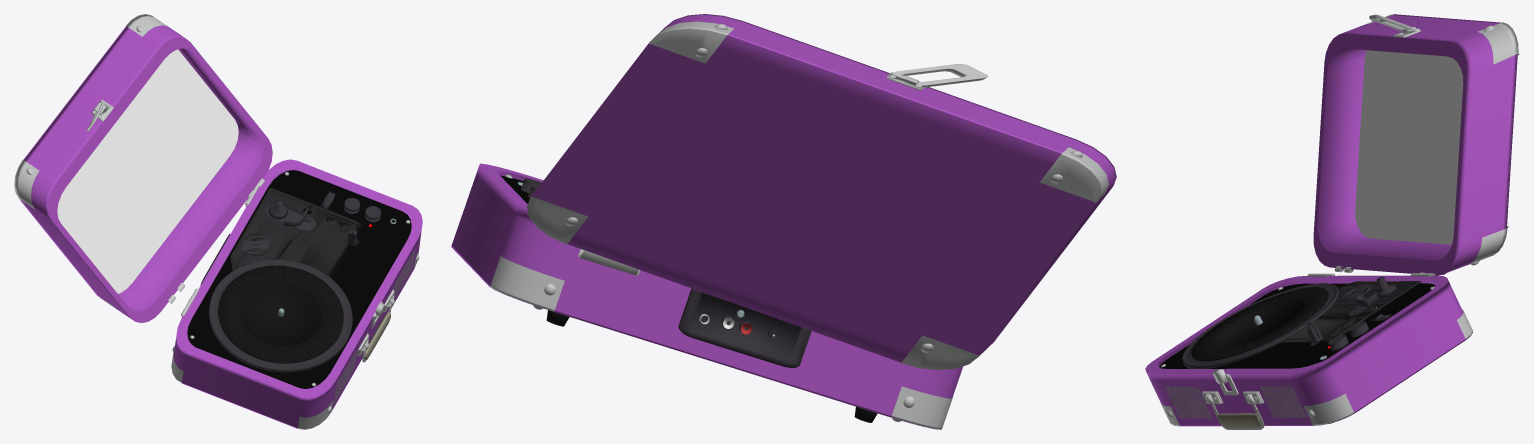
File: turntable3.glb
3 renders of one model, left to right at view 1: azimuth 30°, elevation 25°; view 2: azimuth 150°, elevation 25°; view 3: azimuth 270°, elevation 25°, orthographic. The views are drawn at different scales.
Parts seen in each view (by area): view 1: body 1, body 2, rubber mat, body 3, platter, metal detail 4, metal detail 1, handle; view 2: body 1, body 2, metal detail 4, audio inputs and outputs, metal detail 1, latch 1; view 3: body 1, body 2, rubber mat, body 3, platter, metal detail 4, metal detail 1, speaker 1, speaker 2, handle.
Part boxes in pixels (x1,y1,x2,y2): body 1: (20,25,272,322); body 2: (173,159,422,429); rubber mat: (218,265,343,363); body 3: (230,187,361,278); platter: (208,259,352,372); metal detail 4: (14,14,167,308); metal detail 1: (171,243,419,429); handle: (362,300,394,362); body 1: (531,14,1116,362); body 2: (451,163,962,429); metal detail 4: (527,21,1108,370); audio inputs and outputs: (678,288,811,367); metal detail 1: (490,256,952,429); latch 1: (889,64,988,87); body 1: (1313,14,1517,275); body 2: (1145,275,1470,426); rubber mat: (1191,287,1328,361); body 3: (1282,276,1420,345); platter: (1182,283,1338,368); metal detail 4: (1365,14,1519,265); metal detail 1: (1161,309,1472,426); speaker 1: (1165,387,1211,418); speaker 2: (1260,386,1305,417); handle: (1206,397,1264,429).
Size of the model in its own units: 7.27 by 5.68 by 5.13.
Materials: 16 (8 with a texture image).
